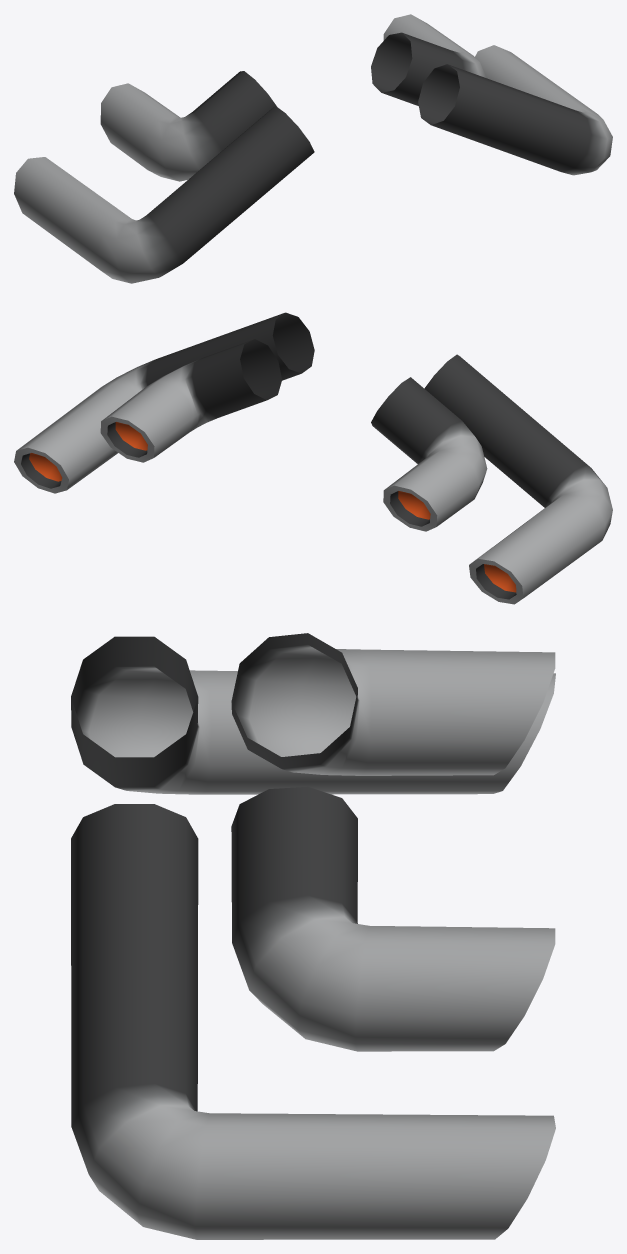
Rendered from Car_11_Pipe_Cool.fbx.
3 renders of one model, top to bottom at view 1: azimuth 30°, elevation 25°; view 2: azimuth 150°, elevation 25°; view 3: azimuth 270°, elevation 25°, orthographic. The views are drawn at different scales.
Visible parts, largest first — view 1: Car_11_Pipe_Cool; view 2: Car_11_Pipe_Cool; view 3: Car_11_Pipe_Cool.
Part boxes in pixels (x1,y1,x2,y2): Car_11_Pipe_Cool: [14, 14, 612, 283]; Car_11_Pipe_Cool: [14, 312, 612, 604]; Car_11_Pipe_Cool: [71, 633, 555, 1239].
Size of the model in its own units: 133 by 54.7 by 37.47.
